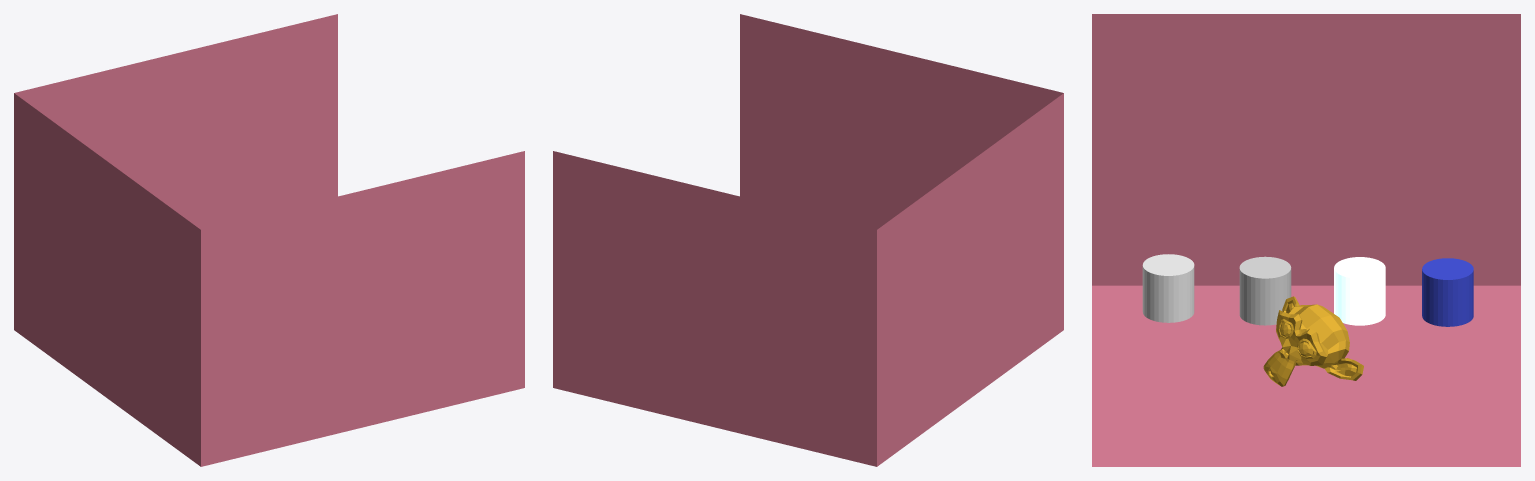
The model's file is ARSceneTest.gltf.
The picture shows the model from 3 angles, left to right: view 1: azimuth 30°, elevation 25°; view 2: azimuth 150°, elevation 25°; view 3: azimuth 270°, elevation 25°; orthographic projection. The views are drawn at different scales.
Visible parts, largest first — view 1: Plane; view 2: Plane; view 3: Plane, Suzanne, Cylinder.003, Cylinder, Cylinder.001, Cylinder.002.
Boxes of the visible parts, box(x1,y1,x2,y2) form: Plane: box(14, 14, 524, 466); Plane: box(553, 14, 1063, 466); Plane: box(1092, 14, 1520, 466); Suzanne: box(1263, 296, 1363, 386); Cylinder.003: box(1142, 254, 1194, 322); Cylinder: box(1422, 258, 1473, 326); Cylinder.001: box(1334, 257, 1385, 325); Cylinder.002: box(1239, 256, 1291, 325).
Bounding box in the file's own units: 6 × 4.2 × 6.
